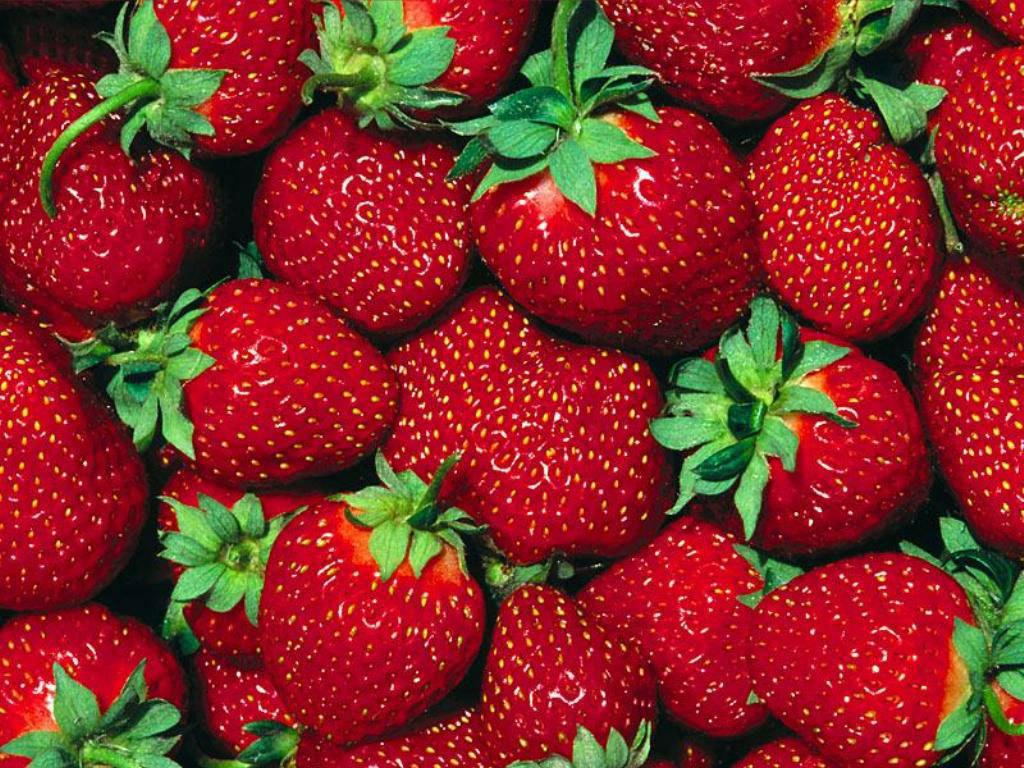strawberry: (458, 44, 773, 346), (678, 302, 942, 556), (738, 544, 1020, 768), (232, 488, 486, 733), (110, 280, 401, 488), (442, 336, 670, 570), (236, 102, 465, 330), (728, 100, 934, 341), (472, 582, 664, 768)
